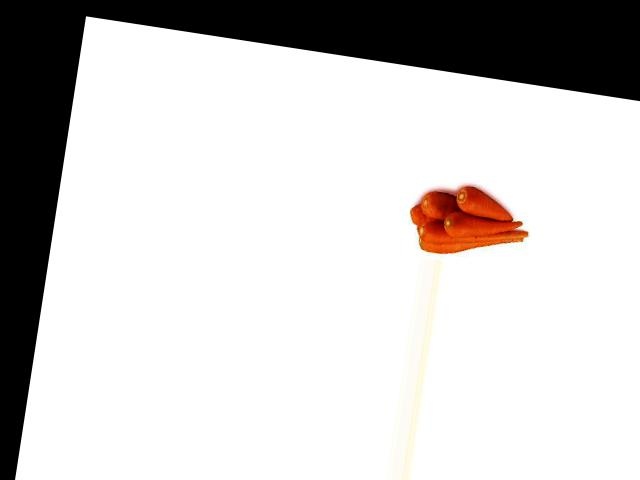carrot: (454, 182, 521, 223)
